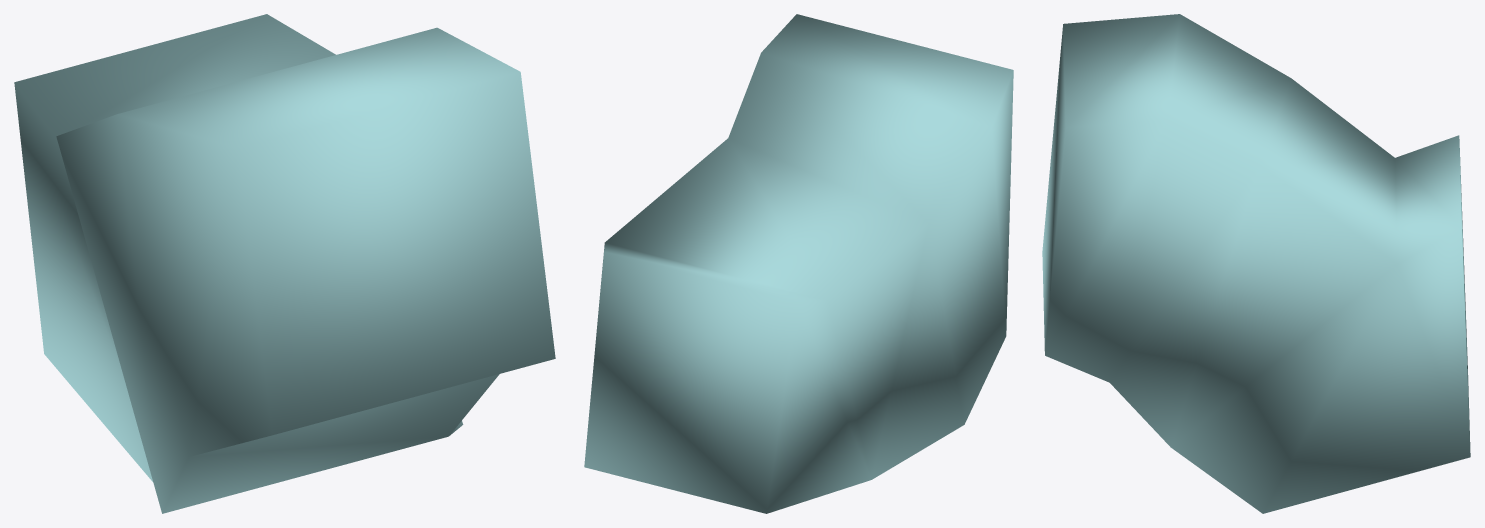
Rendered from Skelly_heel.02.R.fbx.
The picture shows the model from 3 angles, left to right: view 1: azimuth 30°, elevation 25°; view 2: azimuth 150°, elevation 25°; view 3: azimuth 270°, elevation 25°; orthographic projection. The views are drawn at different scales.
Visible parts, largest first — view 1: Skelly_heel.02.R; view 2: Skelly_heel.02.R; view 3: Skelly_heel.02.R.
Part boxes in pixels (bbox=[...]): Skelly_heel.02.R: bbox=[14, 14, 555, 513]; Skelly_heel.02.R: bbox=[584, 14, 1013, 513]; Skelly_heel.02.R: bbox=[1042, 14, 1470, 513].
Size of the model in its own units: 6.49 by 7.29 by 7.74.
